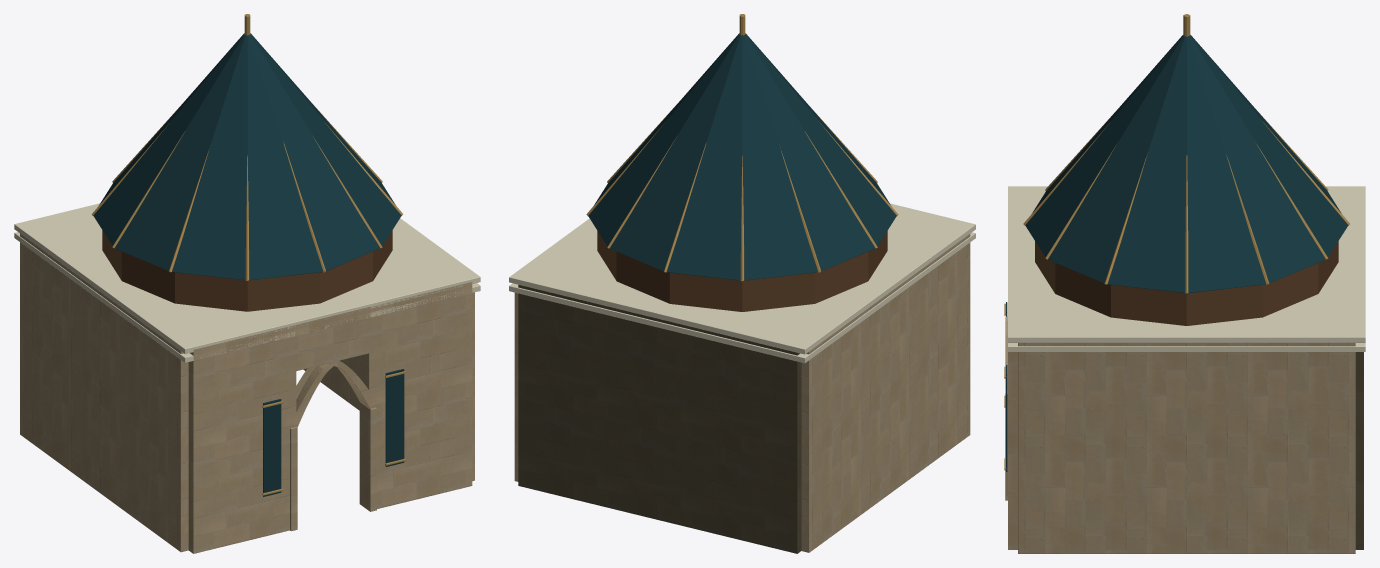
Rendered from pavilion.glb.
3 views of the same model, side by side, from view 1: azimuth 30°, elevation 25°; view 2: azimuth 150°, elevation 25°; view 3: azimuth 270°, elevation 25° (orthographic). The views are drawn at different scales.
Visible parts, largest first — view 1: Pavilion; view 2: Pavilion; view 3: Pavilion.
Part boxes in pixels (x1=…): Pavilion: x1=14, y1=14, x2=480, y2=553; Pavilion: x1=509, y1=14, x2=975, y2=553; Pavilion: x1=1004, y1=14, x2=1365, y2=553.
Bounding box in the file's own units: 10.6 × 15.15 × 10.71.
6 materials, 1 textured.
